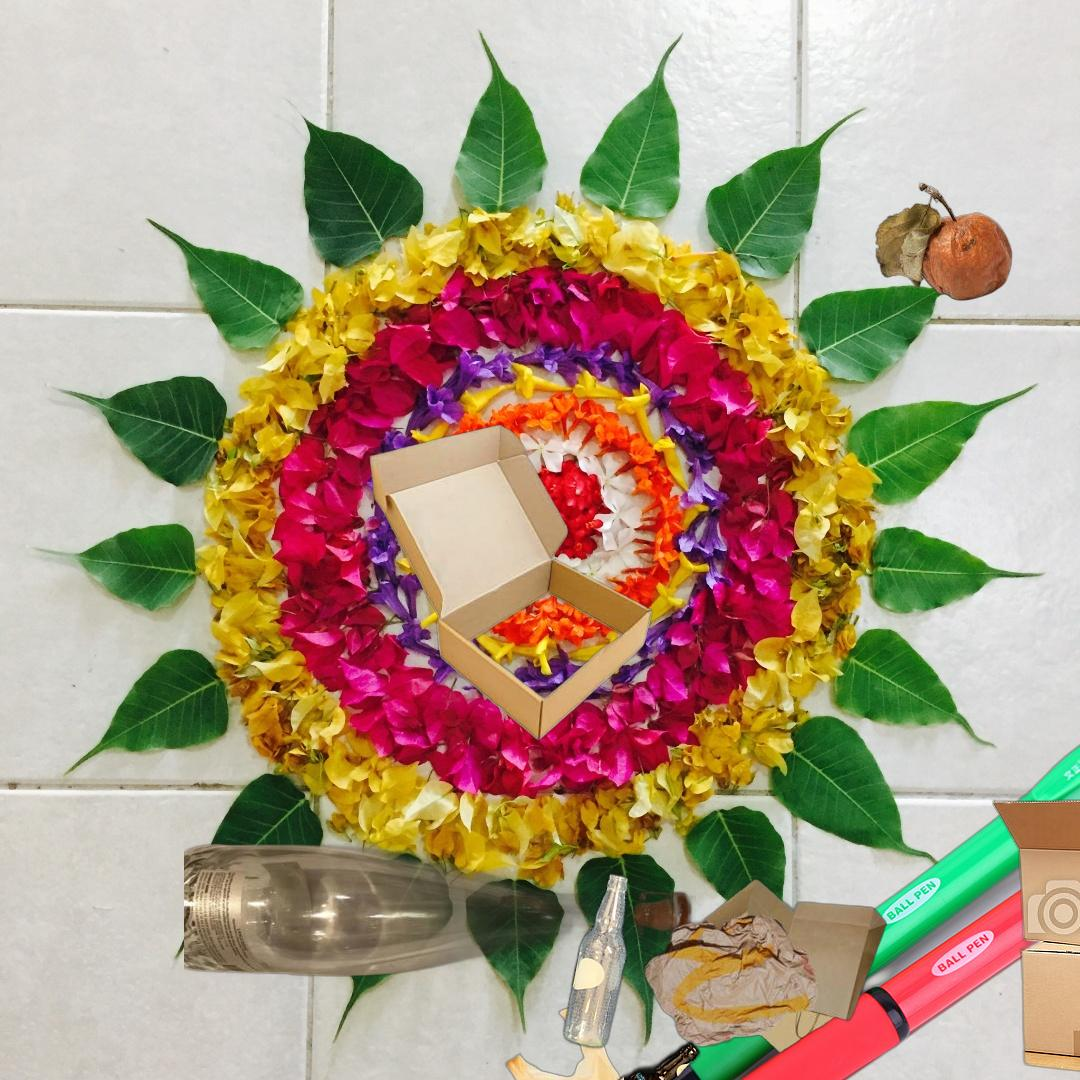biological: (873, 180, 1015, 303)
glass: (184, 841, 696, 979), (559, 867, 704, 1080)
paper-bag: (641, 876, 890, 1056)
penholder: (575, 662, 1080, 1080)
plastic-bag: (503, 1001, 728, 1080)
trashbox-cardboard: (367, 422, 654, 742), (987, 794, 1080, 1078)
